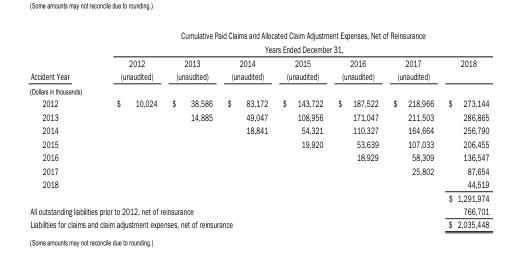table: (29, 28, 488, 229)
table column: (92, 28, 163, 229), (29, 28, 92, 229), (163, 28, 219, 229), (329, 28, 385, 229), (219, 28, 274, 229), (274, 28, 329, 229), (385, 28, 440, 229), (440, 28, 488, 229)
table column header: (29, 28, 488, 69)
table projected row header: (29, 84, 488, 96)
table row: (29, 28, 488, 55), (29, 69, 488, 84), (29, 55, 488, 69), (29, 109, 488, 123), (29, 136, 488, 150), (29, 163, 488, 177), (29, 190, 488, 204), (29, 96, 488, 109), (29, 123, 488, 136), (29, 150, 488, 163), (29, 177, 488, 190), (29, 204, 488, 217), (29, 84, 488, 96), (29, 217, 488, 229)
table spanning cell: (92, 28, 488, 55), (29, 217, 274, 229), (29, 204, 219, 217), (29, 177, 92, 204)
